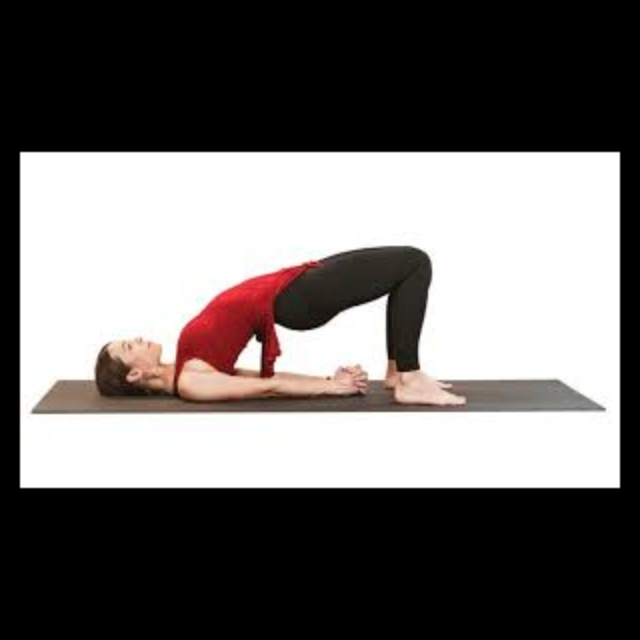Bridge_Pose: (88, 245, 481, 410)
